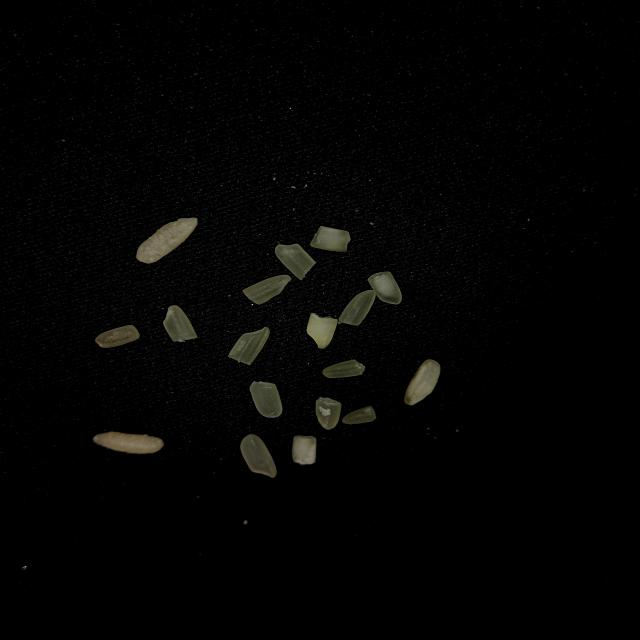Broken: (228, 326, 270, 366), (275, 243, 316, 281), (243, 275, 291, 305), (162, 305, 198, 342), (338, 290, 376, 325), (250, 381, 282, 418), (368, 272, 402, 304), (307, 313, 337, 349), (310, 226, 350, 252), (95, 325, 140, 348), (316, 397, 342, 430), (322, 359, 366, 378), (292, 436, 316, 464), (342, 406, 377, 424)
Full: (137, 217, 199, 264), (404, 359, 440, 406), (240, 434, 277, 478), (93, 432, 164, 454)
